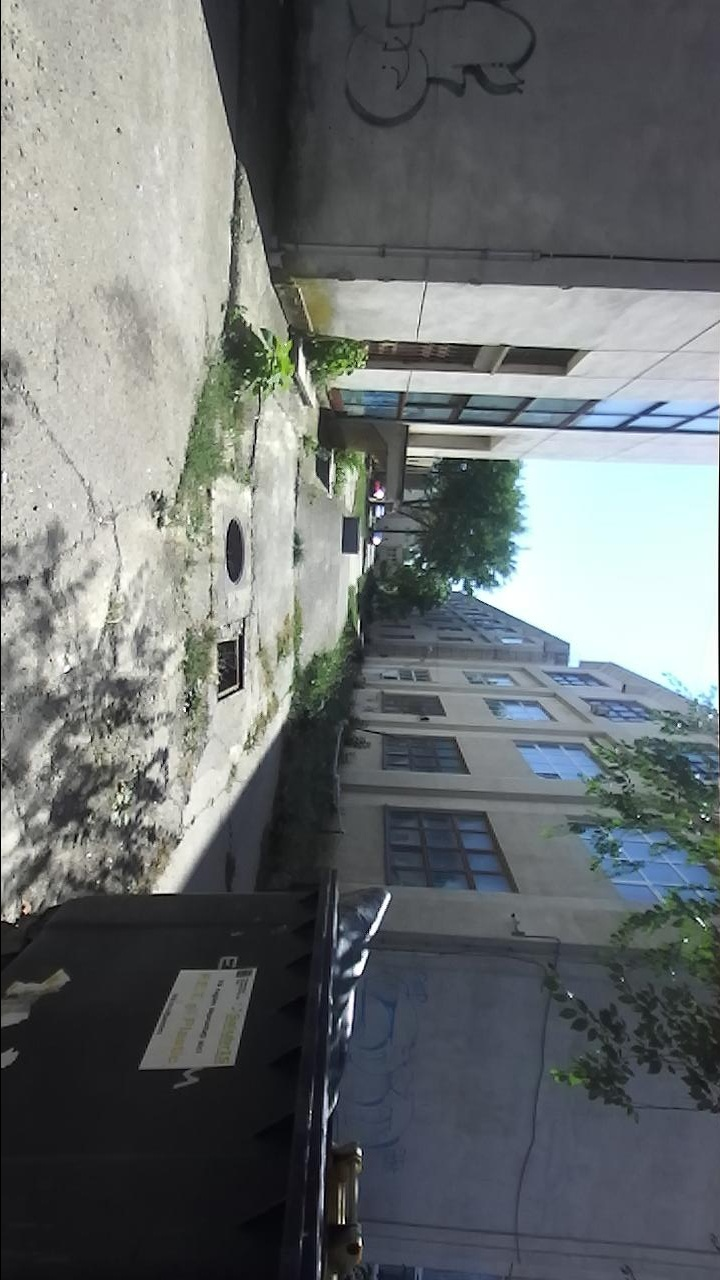drain: (215, 631, 249, 704), (223, 514, 248, 586)
